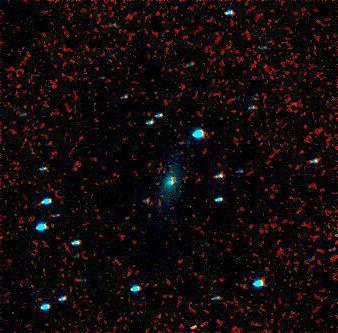star: (179, 312, 209, 333)
